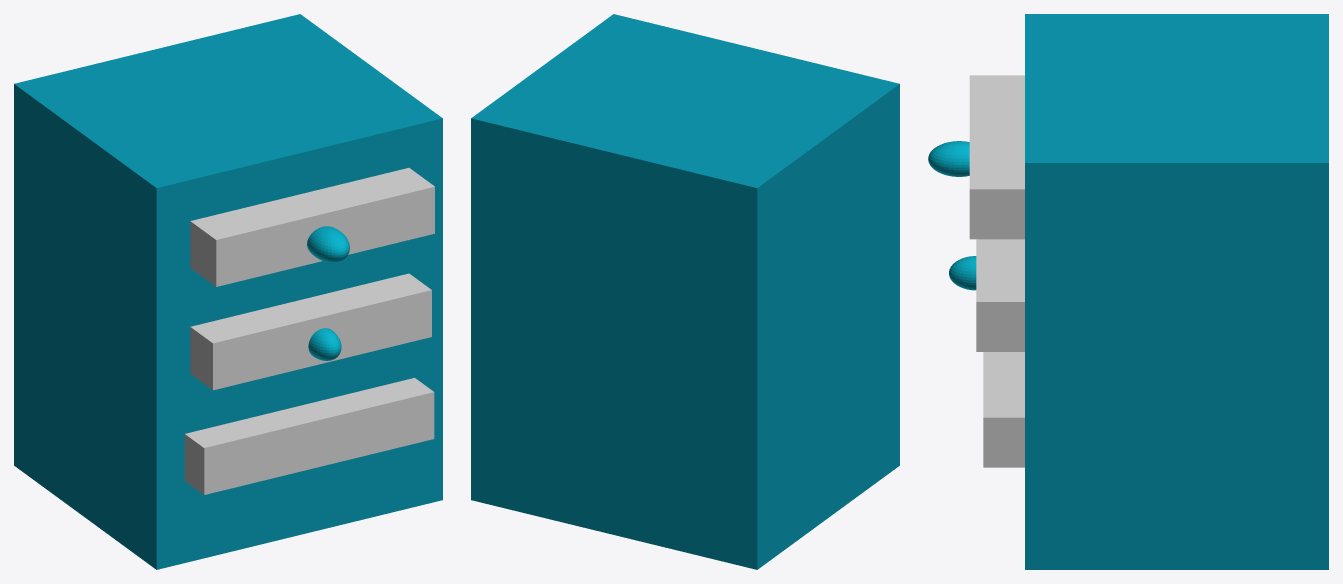
File: Side Table.glb
3 renders of one model, left to right at view 1: azimuth 30°, elevation 25°; view 2: azimuth 150°, elevation 25°; view 3: azimuth 270°, elevation 25°, orthographic. The views are drawn at different scales.
Visible parts, largest first — view 1: Mesh_Mesh_head_geo.001_lambert2SG.001; view 2: Mesh_Mesh_head_geo.001_lambert2SG.001; view 3: Mesh_Mesh_head_geo.001_lambert2SG.001.
Boxes of the visible parts, left/top/right/bottom form: Mesh_Mesh_head_geo.001_lambert2SG.001: left=14, top=14, right=442, bottom=569; Mesh_Mesh_head_geo.001_lambert2SG.001: left=471, top=14, right=899, bottom=569; Mesh_Mesh_head_geo.001_lambert2SG.001: left=928, top=14, right=1328, bottom=569.
Size of the model in its own units: 51 by 65 by 58.
